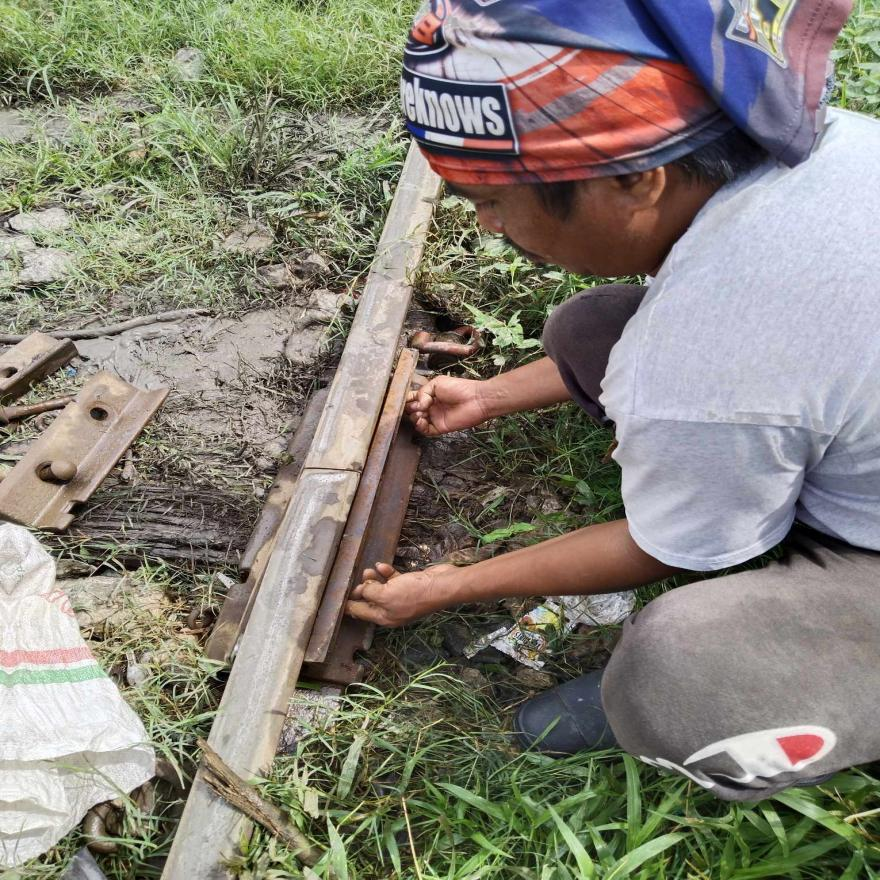railway-gap: (276, 432, 389, 507)
